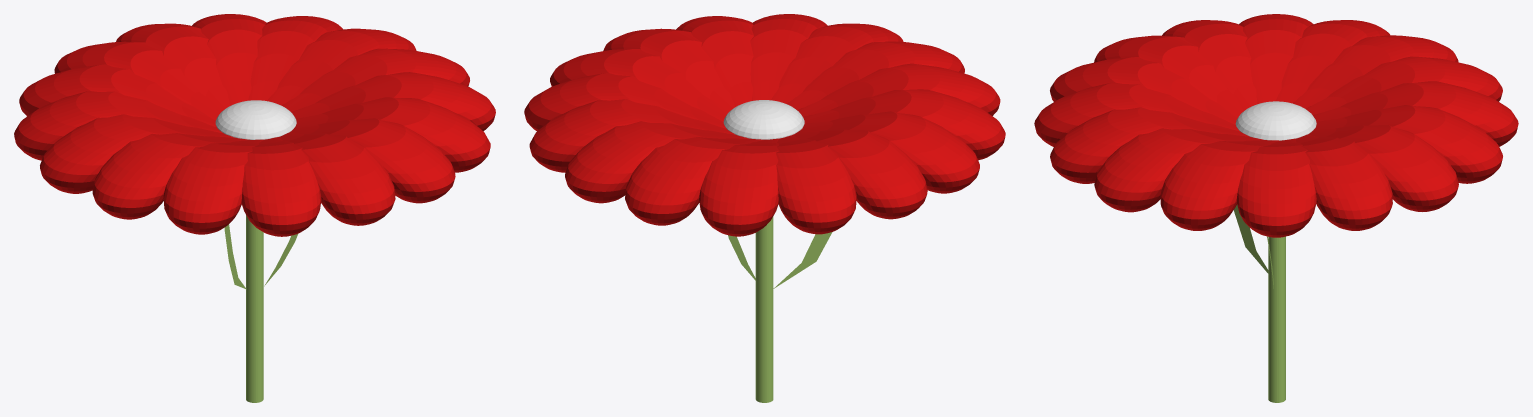
File: PoppyFlower.fbx
3 renders of one model, left to right at view 1: azimuth 30°, elevation 25°; view 2: azimuth 150°, elevation 25°; view 3: azimuth 270°, elevation 25°, orthographic.
Parts seen in each view (by area): view 1: Sphere.008, Cylinder; view 2: Sphere.008, Cylinder; view 3: Sphere.008, Cylinder.
Part boxes in pixels (x1=…): Sphere.008: x1=14, y1=14, x2=495, y2=236; Cylinder: x1=224, y1=215, x2=298, y2=402; Sphere.008: x1=524, y1=14, x2=1005, y2=236; Cylinder: x1=728, y1=217, x2=832, y2=402; Sphere.008: x1=1034, y1=14, x2=1518, y2=237; Cylinder: x1=1234, y1=204, x2=1285, y2=402.
Bounding box in the file's own units: 1175 × 822 × 1175.
